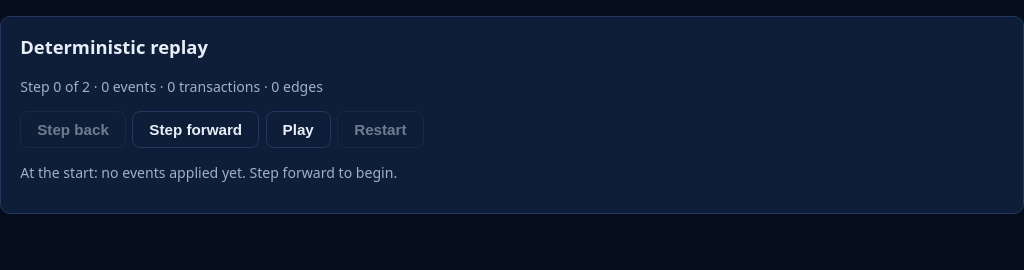
Scenario: ReplayControls › disables stepping past the end
Expected: the text with test id "replay-position" shows "Step 0 of 2", [20,77,323,96]
Click the button "Step forward" at (196, 129), box [132,111,259,148]
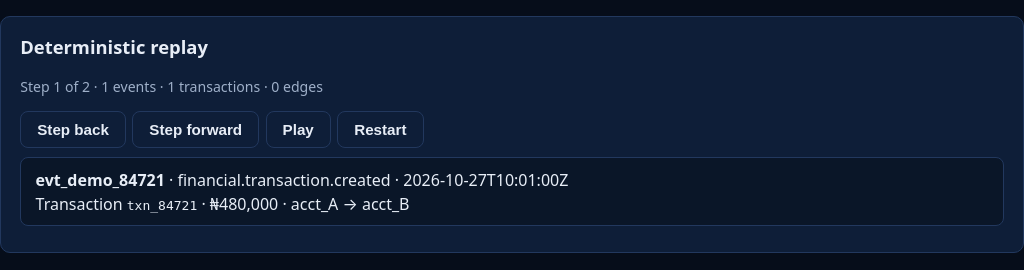
Now the text with test id "replay-position" shows "Step 1 of 2", box [20,77,323,96]
Click the button "Step forward" at (196, 129), box [132,111,259,148]
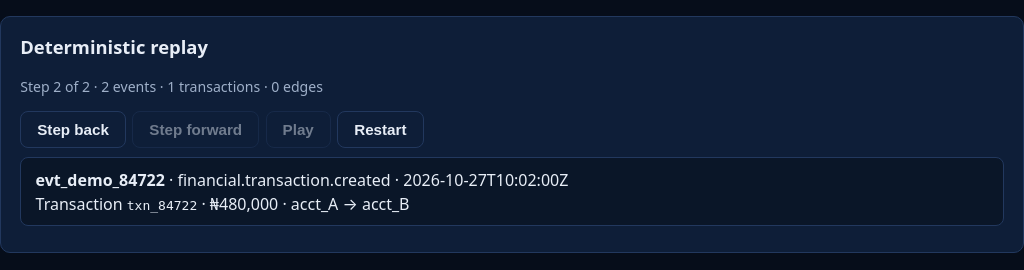
Now the text with test id "replay-position" shows "Step 2 of 2", box [20,77,323,96]
Now the button "Step forward" is disabled, box [132,111,259,148]
